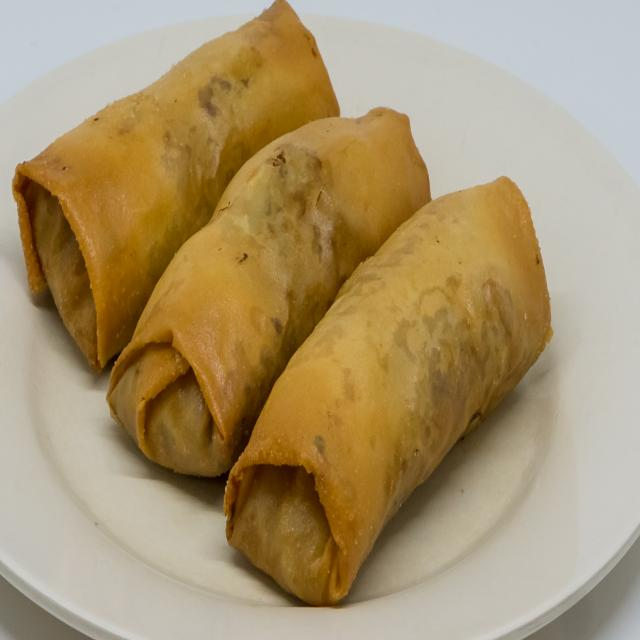Lumpia-Semarang: (13, 0, 556, 618)
